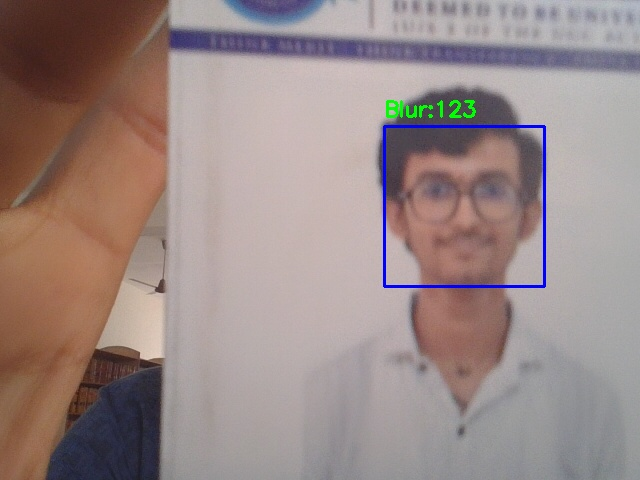fake: (384, 126, 544, 286)
